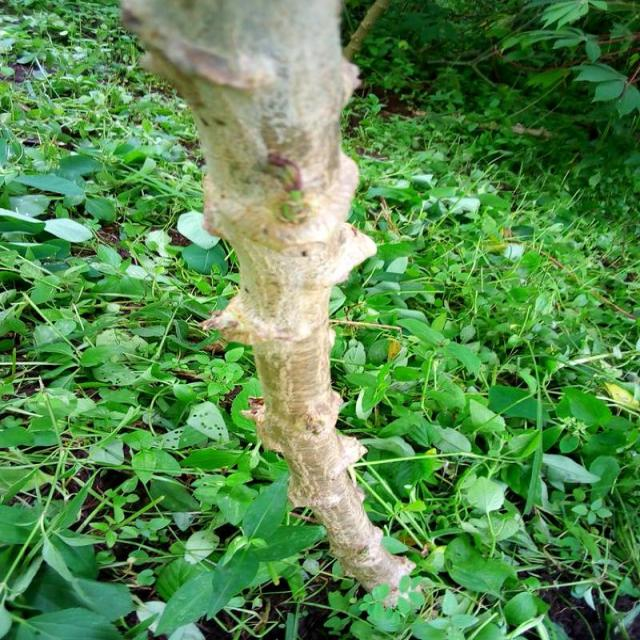cassava leaf: (120, 0, 422, 611)
